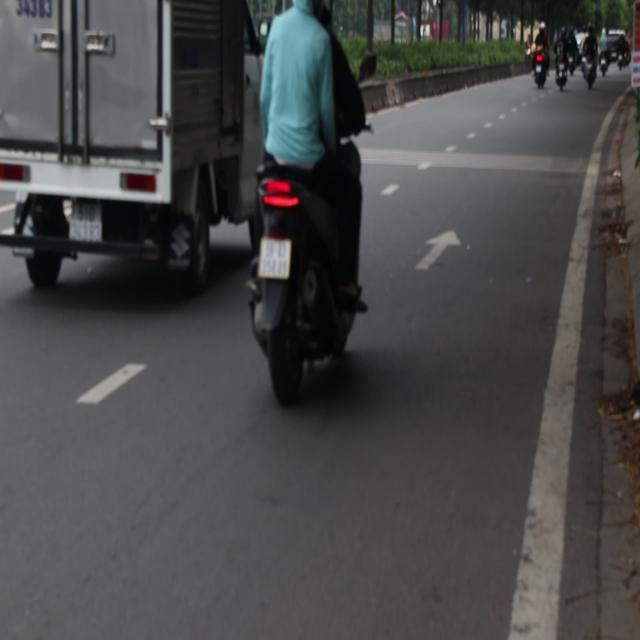motorbike: (240, 162, 366, 403), (553, 59, 572, 102), (533, 50, 550, 90), (597, 49, 609, 80), (593, 98, 593, 99)
truck: (0, 0, 281, 301)
